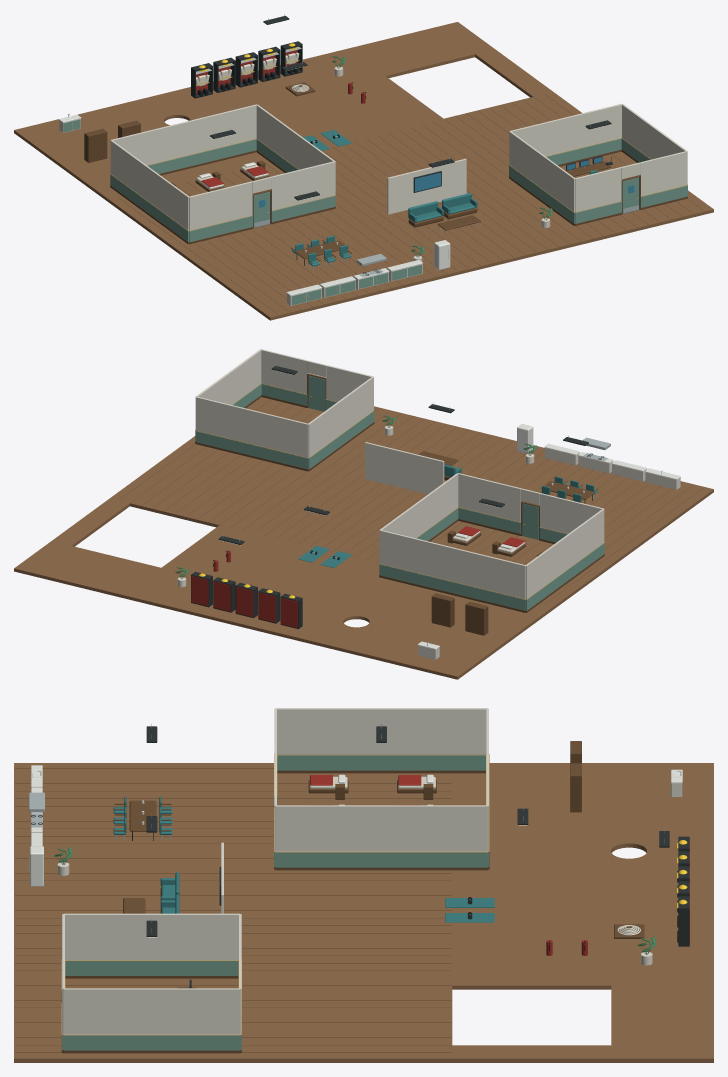
The model's file is fire-station-upper.glb.
3 views of the same model, one above another, from view 1: azimuth 30°, elevation 25°; view 2: azimuth 150°, elevation 25°; view 3: azimuth 270°, elevation 25° (orthographic). The views are drawn at different scales.
Visible parts, largest first — view 1: FireStation_Upper__Station oak flooring, FireStation_Upper__Warm plaster, FireStation_Upper__Hospital sage, FireStation_Upper__Smoked oak, FireStation_Upper__Graphite, FireStation_Upper__Petrol upholstery, FireStation_Upper__Clinical enamel, FireStation_Upper__Warm linen, FireStation_Upper__Fire service oxblood, FireStation_Upper__Brushed warm brass, FireStation_Upper__Satin stainless steel, FireStation_Upper__Medical blue (+2 smaller); view 2: FireStation_Upper__Station oak flooring, FireStation_Upper__Warm plaster, FireStation_Upper__Hospital sage, FireStation_Upper__Smoked oak, FireStation_Upper__Fire service oxblood, FireStation_Upper__Graphite, FireStation_Upper__Clinical enamel, FireStation_Upper__Petrol upholstery, FireStation_Upper__Brushed warm brass, Dispatch_Hinge__Hospital sage, CrewDorm_Hinge__Hospital sage; view 3: FireStation_Upper__Station oak flooring, FireStation_Upper__Warm plaster, FireStation_Upper__Smoked oak, FireStation_Upper__Hospital sage, FireStation_Upper__Graphite, FireStation_Upper__Petrol upholstery, FireStation_Upper__Brushed warm brass, FireStation_Upper__Clinical enamel, FireStation_Upper__Fire service oxblood, FireStation_Upper__Satin stainless steel, FireStation_Upper__Warm linen.
Boxes of the visible parts, x1,y1,x2,y2 form: FireStation_Upper__Station oak flooring: [14, 22, 713, 320]; FireStation_Upper__Warm plaster: [59, 66, 687, 305]; FireStation_Upper__Hospital sage: [63, 119, 687, 305]; FireStation_Upper__Smoked oak: [84, 82, 703, 314]; FireStation_Upper__Graphite: [191, 16, 612, 275]; FireStation_Upper__Petrol upholstery: [291, 130, 597, 266]; FireStation_Upper__Clinical enamel: [59, 114, 450, 295]; FireStation_Upper__Warm linen: [196, 52, 309, 189]; FireStation_Upper__Fire service oxblood: [196, 50, 365, 187]; FireStation_Upper__Brushed warm brass: [73, 124, 687, 298]; FireStation_Upper__Satin stainless steel: [68, 14, 609, 288]; FireStation_Upper__Medical blue: [415, 157, 602, 191]; FireStation_Upper__Station oak flooring: [14, 397, 713, 679]; FireStation_Upper__Warm plaster: [177, 349, 680, 659]; FireStation_Upper__Hospital sage: [195, 384, 604, 610]; FireStation_Upper__Smoked oak: [120, 373, 702, 635]; FireStation_Upper__Fire service oxblood: [191, 526, 524, 627]; FireStation_Upper__Graphite: [191, 365, 604, 628]; FireStation_Upper__Clinical enamel: [417, 424, 680, 649]; FireStation_Upper__Petrol upholstery: [298, 464, 598, 567]; FireStation_Upper__Brushed warm brass: [195, 383, 604, 599]; Dispatch_Hinge__Hospital sage: [308, 375, 325, 411]; CrewDorm_Hinge__Hospital sage: [522, 503, 538, 539]; FireStation_Upper__Station oak flooring: [14, 763, 713, 1062]; FireStation_Upper__Warm plaster: [32, 708, 682, 1035]; FireStation_Upper__Smoked oak: [15, 741, 644, 1053]; FireStation_Upper__Hospital sage: [31, 755, 671, 1050]; FireStation_Upper__Graphite: [31, 726, 689, 988]; FireStation_Upper__Petrol upholstery: [113, 796, 494, 922]; FireStation_Upper__Brushed warm brass: [30, 754, 670, 1035]; FireStation_Upper__Clinical enamel: [30, 765, 682, 886]; FireStation_Upper__Fire service oxblood: [310, 775, 689, 955]; FireStation_Upper__Satin stainless steel: [29, 723, 681, 932]; FireStation_Upper__Warm linen: [309, 776, 640, 935].
Bounding box in the file's own units: 39.6 × 6.01 × 39.6.
